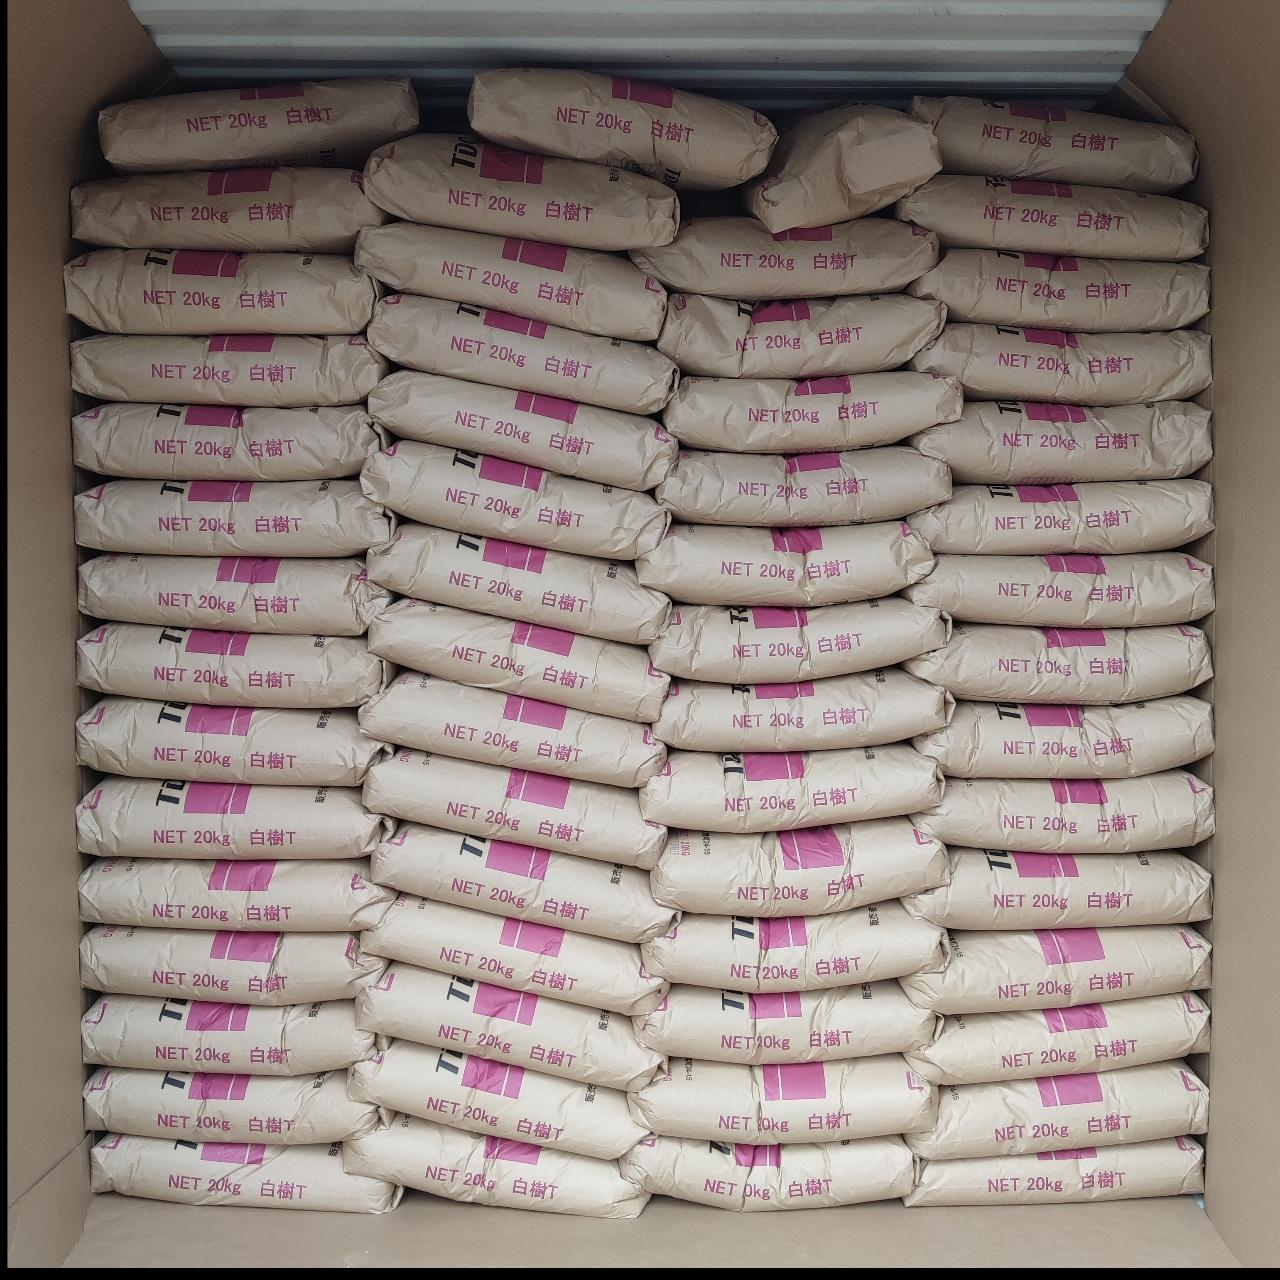sack: (358, 962, 668, 1092), (360, 894, 669, 1015), (368, 369, 678, 490), (368, 598, 667, 722), (469, 68, 776, 189), (368, 522, 672, 644), (369, 294, 678, 414), (354, 222, 665, 340), (363, 134, 679, 250), (362, 748, 665, 869), (361, 440, 669, 558), (348, 1037, 649, 1158), (370, 822, 678, 940), (358, 672, 665, 787), (341, 1107, 651, 1218), (98, 79, 418, 172), (907, 1060, 1207, 1159), (651, 817, 948, 915), (642, 900, 959, 992), (906, 990, 1208, 1084), (79, 697, 392, 787), (903, 925, 1210, 1015), (72, 166, 390, 253), (910, 97, 1197, 193), (629, 1054, 937, 1142), (896, 175, 1208, 260), (77, 622, 394, 707), (640, 745, 942, 833), (64, 248, 379, 333), (635, 979, 942, 1064), (911, 768, 1214, 853), (649, 595, 948, 682), (77, 776, 395, 857), (631, 217, 939, 300), (636, 520, 934, 606), (904, 622, 1212, 704), (653, 667, 952, 751), (907, 248, 1210, 332), (79, 554, 388, 635), (917, 694, 1213, 778), (903, 847, 1211, 928), (908, 324, 1211, 406), (745, 105, 941, 232), (80, 925, 390, 1005), (911, 401, 1212, 483), (72, 403, 389, 481), (75, 479, 396, 556), (91, 1135, 402, 1213), (662, 372, 964, 452), (658, 293, 946, 377), (82, 994, 377, 1076), (654, 445, 951, 526), (84, 1067, 387, 1144), (903, 552, 1214, 627), (908, 478, 1213, 554), (72, 334, 390, 407), (79, 858, 396, 931), (621, 1135, 924, 1211), (904, 1136, 1203, 1206)
